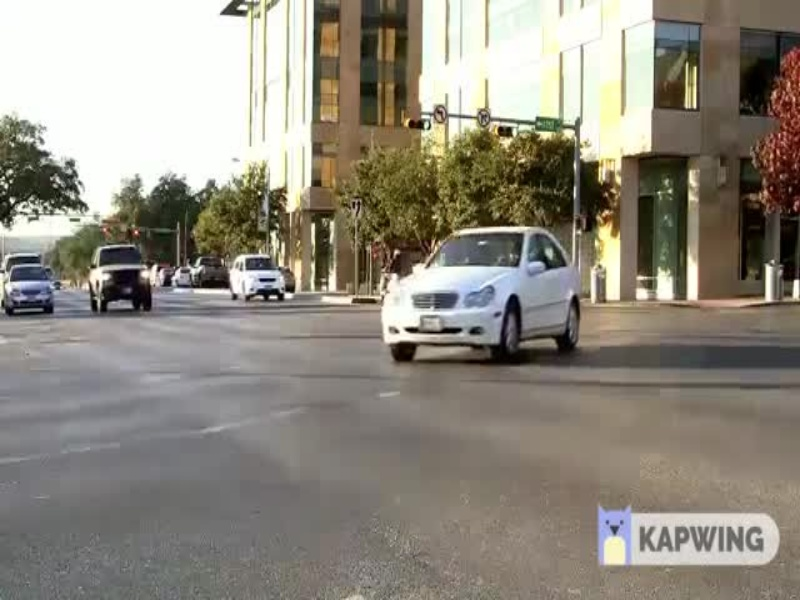car: (369, 213, 604, 389), (1, 255, 58, 318)
suv: (75, 241, 162, 319)
